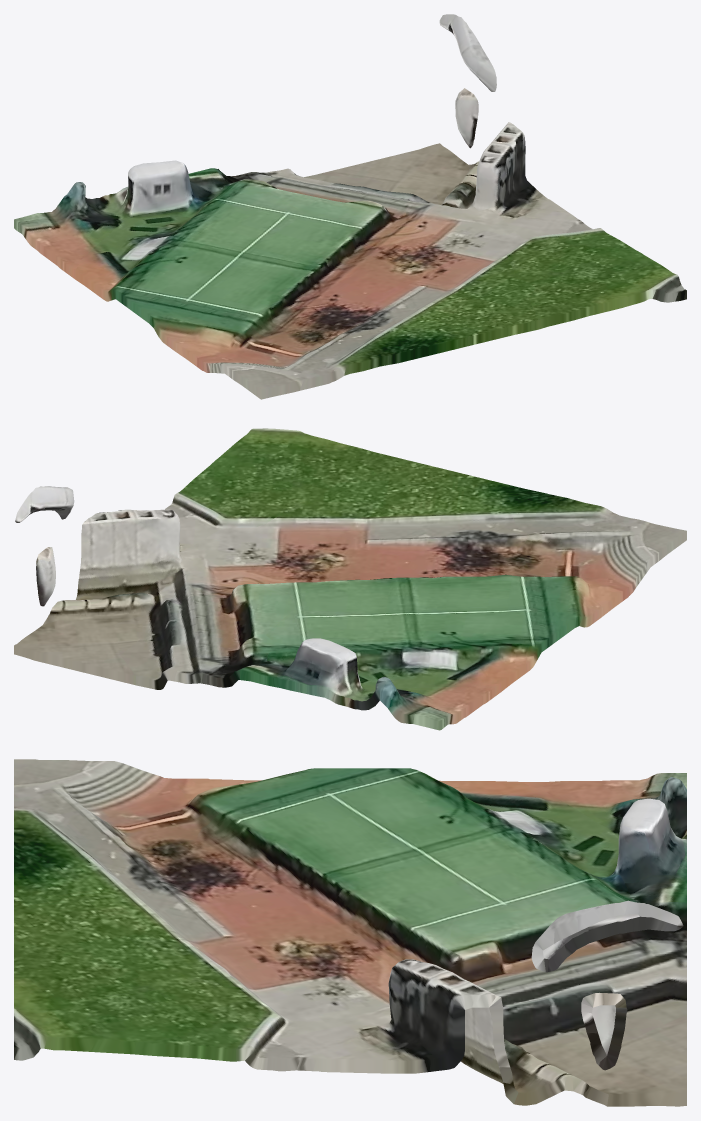
Rendered from z20-167786-405221-h0-yup-uvflip-v3-world.glb.
3 renders of one model, top to bottom at view 1: azimuth 30°, elevation 25°; view 2: azimuth 150°, elevation 25°; view 3: azimuth 270°, elevation 25°, orthographic. The views are drawn at different scales.
Size of the model in its own units: 30.16 by 10.28 by 30.32.
1 material, 1 textured.
